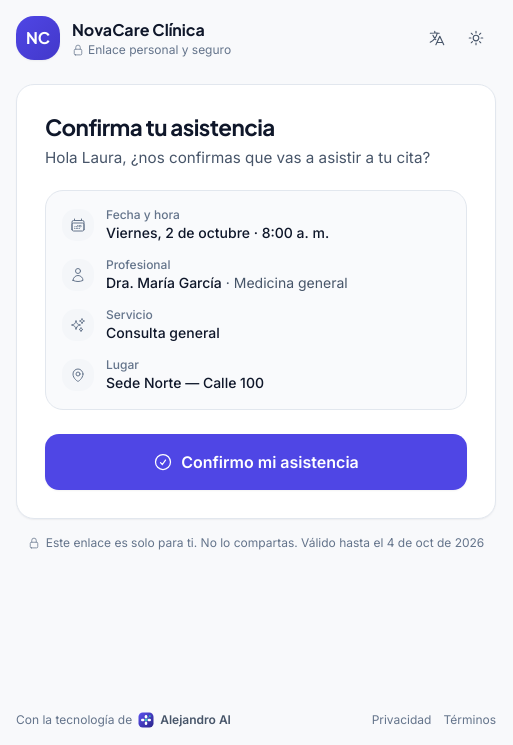
ActionPage (/a/:token) › confirms attendance anonymously and shows the success state
Click the button "Confirmo mi asistencia" at {"x": 256, "y": 462}, box [45,434,467,490]
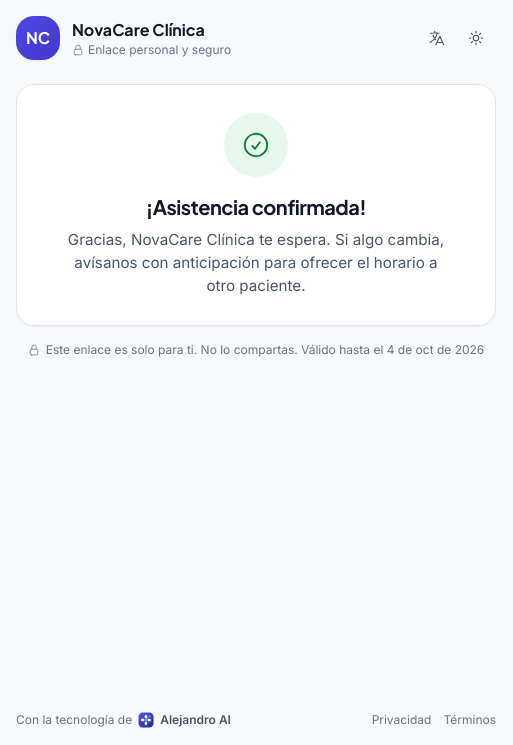
Check: the heading "¡Asistencia confirmada!" is shown, box [146,193,366,221]
